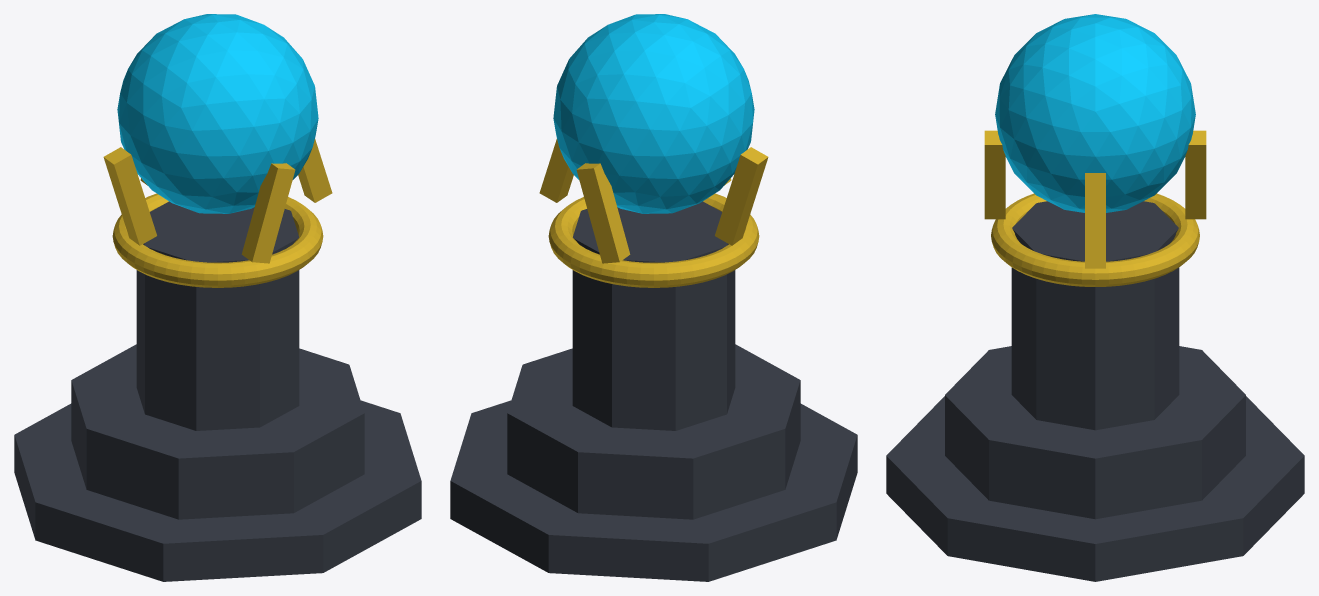
Rendered from Orbe_Magico_Pedestal.obj.
The picture shows the model from 3 angles, left to right: view 1: azimuth 30°, elevation 25°; view 2: azimuth 150°, elevation 25°; view 3: azimuth 270°, elevation 25°; orthographic projection.
Visible parts, largest first — view 1: Pedestal_Base, Pedestal_Mid, Mana_Orb, Pedestal_Shaft, Rune_Collar, Claw_4, Claw_3, Claw_1; view 2: Pedestal_Base, Pedestal_Mid, Mana_Orb, Pedestal_Shaft, Rune_Collar, Claw_2, Claw_3, Claw_1; view 3: Pedestal_Base, Pedestal_Mid, Mana_Orb, Pedestal_Shaft, Rune_Collar, Claw_1, Claw_2, Claw_4.
Part boxes in pixels (x1,y1,x2,y2): Pedestal_Base: (14,400,421,581); Pedestal_Mid: (71,344,364,519); Mana_Orb: (117,14,318,213); Pedestal_Shaft: (136,201,299,430); Rune_Collar: (112,193,323,287); Claw_4: (241,163,295,263); Claw_3: (103,147,156,245); Claw_1: (298,139,332,202); Pedestal_Base: (450,400,857,581); Pedestal_Mid: (507,344,800,519); Mana_Orb: (553,14,754,213); Pedestal_Shaft: (572,201,735,430); Rune_Collar: (548,193,759,287); Claw_2: (576,163,630,263); Claw_3: (715,147,768,245); Claw_1: (539,139,573,202); Pedestal_Base: (886,396,1304,581); Pedestal_Mid: (945,346,1245,519); Mana_Orb: (995,14,1195,212); Pedestal_Shaft: (1011,201,1179,430); Rune_Collar: (991,193,1199,286); Claw_1: (1085,173,1105,268); Claw_2: (1185,130,1206,219); Claw_4: (984,130,1005,219).
Size of the model in its own units: 5 by 6.2 by 5.
